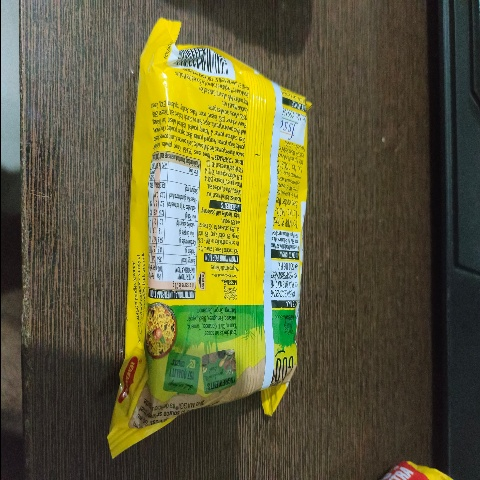maggi: (70, 26, 362, 445)
